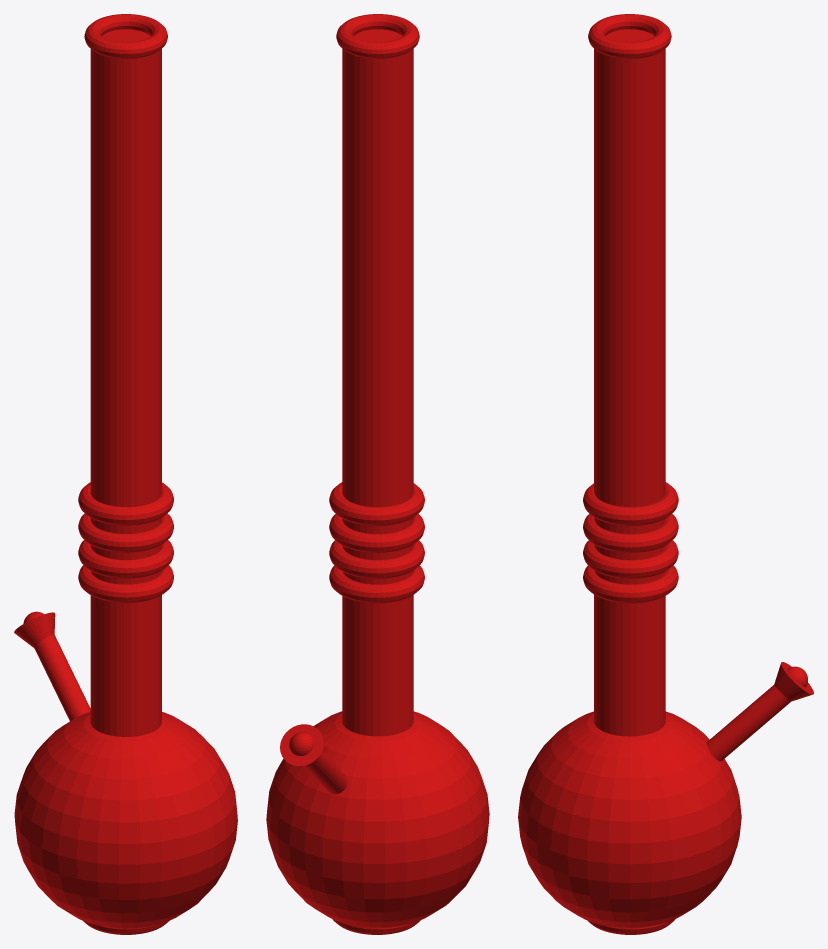
The picture shows the model from 3 angles, left to right: view 1: azimuth 30°, elevation 25°; view 2: azimuth 150°, elevation 25°; view 3: azimuth 270°, elevation 25°; orthographic projection.
Visible parts, largest first — view 1: Torus.006; view 2: Torus.006; view 3: Torus.006.
Boxes of the visible parts, x1,y1,x2,y2 form: Torus.006: (14, 14, 237, 934); Torus.006: (266, 14, 489, 934); Torus.006: (518, 14, 813, 934).
Size of the model in its own units: 75.44 by 331 by 99.79.
